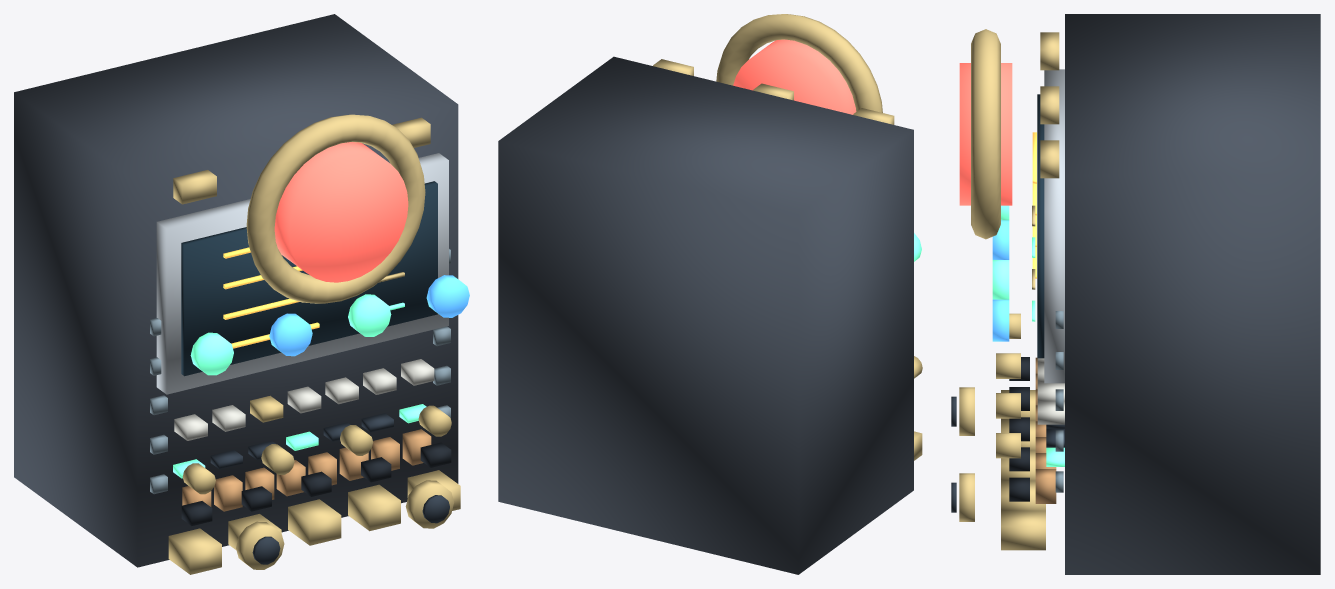
The model's file is 98_L93_EmergencyStopMaster.fbx.
The picture shows the model from 3 angles, left to right: view 1: azimuth 30°, elevation 25°; view 2: azimuth 150°, elevation 25°; view 3: azimuth 270°, elevation 25°; orthographic projection. The views are drawn at different scales.
Parts seen in each view (by area): view 1: L92_EmergencyStopMaster_Part_0000, L92_EmergencyStopMaster_Part_0002, L92_EmergencyStopMaster_Part_0012, L92_EmergencyStopMaster_Part_0004, L92_EmergencyStopMaster_Part_0013, L92_EmergencyStopMaster_Part_0001, L92_EmergencyStopMaster_Part_0009, L92_EmergencyStopMaster_Part_0006, L92_EmergencyStopMaster_Part_0005, L92_EmergencyStopMaster_Part_0010, L92_EmergencyStopMaster_Part_0011, L92_EmergencyStopMaster_Part_0008 (+6 smaller); view 2: L92_EmergencyStopMaster_Part_0000, L92_EmergencyStopMaster_Part_0013, L92_EmergencyStopMaster_Part_0012, L92_EmergencyStopMaster_Part_0004; view 3: L92_EmergencyStopMaster_Part_0000, L92_EmergencyStopMaster_Part_0004, L92_EmergencyStopMaster_Part_0013, L92_EmergencyStopMaster_Part_0001, L92_EmergencyStopMaster_Part_0012, L92_EmergencyStopMaster_Part_0010, L92_EmergencyStopMaster_Part_0002, L92_EmergencyStopMaster_Part_0009, L92_EmergencyStopMaster_Part_0005, L92_EmergencyStopMaster_Part_0011, L92_EmergencyStopMaster_Part_0006, L92_EmergencyStopMaster_Part_0008 (+3 smaller).
Boxes of the visible parts, <box> form: L92_EmergencyStopMaster_Part_0000: <box>14,14,458,567</box>; L92_EmergencyStopMaster_Part_0002: <box>181,181,437,376</box>; L92_EmergencyStopMaster_Part_0012: <box>274,142,408,282</box>; L92_EmergencyStopMaster_Part_0004: <box>168,117,460,574</box>; L92_EmergencyStopMaster_Part_0013: <box>246,114,425,303</box>; L92_EmergencyStopMaster_Part_0001: <box>156,153,448,394</box>; L92_EmergencyStopMaster_Part_0009: <box>182,429,431,511</box>; L92_EmergencyStopMaster_Part_0006: <box>174,359,434,440</box>; L92_EmergencyStopMaster_Part_0005: <box>173,294,426,478</box>; L92_EmergencyStopMaster_Part_0010: <box>181,442,451,525</box>; L92_EmergencyStopMaster_Part_0011: <box>269,275,469,356</box>; L92_EmergencyStopMaster_Part_0008: <box>150,249,450,494</box>; L92_EmergencyStopMaster_Part_0000: <box>498,56,913,574</box>; L92_EmergencyStopMaster_Part_0013: <box>716,14,882,112</box>; L92_EmergencyStopMaster_Part_0012: <box>733,39,856,114</box>; L92_EmergencyStopMaster_Part_0004: <box>653,59,922,460</box>; L92_EmergencyStopMaster_Part_0000: <box>1065,14,1320,574</box>; L92_EmergencyStopMaster_Part_0004: <box>996,32,1059,550</box>; L92_EmergencyStopMaster_Part_0013: <box>971,29,1000,239</box>; L92_EmergencyStopMaster_Part_0001: <box>1044,69,1064,383</box>; L92_EmergencyStopMaster_Part_0012: <box>959,63,1012,205</box>; L92_EmergencyStopMaster_Part_0010: <box>1009,357,1029,501</box>; L92_EmergencyStopMaster_Part_0002: <box>1037,94,1044,358</box>; L92_EmergencyStopMaster_Part_0009: <box>1035,357,1056,503</box>; L92_EmergencyStopMaster_Part_0005: <box>992,205,1064,466</box>; L92_EmergencyStopMaster_Part_0011: <box>992,220,1009,341</box>; L92_EmergencyStopMaster_Part_0006: <box>1037,358,1064,424</box>; L92_EmergencyStopMaster_Part_0008: <box>1055,311,1063,492</box>.
Size of the model in its own units: 1.02 by 1.34 by 0.982.
